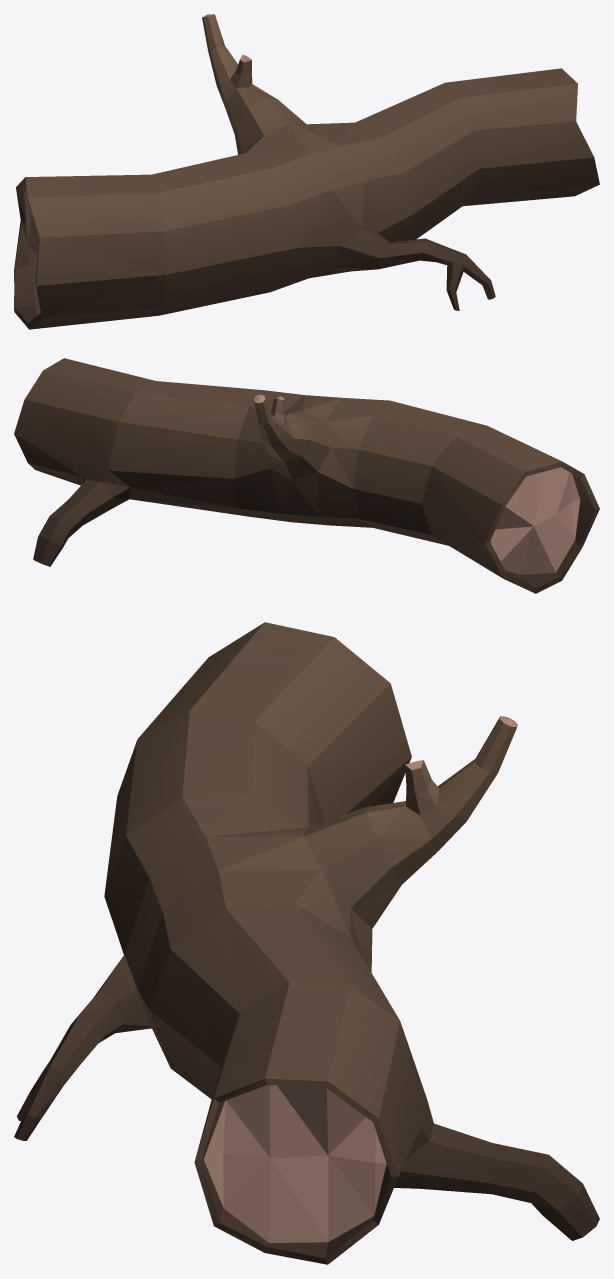
File: Baumstamm_mid.fbx
The picture shows the model from 3 angles, top to bottom: view 1: azimuth 30°, elevation 25°; view 2: azimuth 150°, elevation 25°; view 3: azimuth 270°, elevation 25°; orthographic projection. The views are drawn at different scales.
Parts seen in each view (by area): view 1: Baumstamm_klein; view 2: Baumstamm_klein; view 3: Baumstamm_klein.
Part boxes in pixels (x1,y1,x2,y2): Baumstamm_klein: (14,14,599,329); Baumstamm_klein: (14,358,599,593); Baumstamm_klein: (14,622,599,1264).
Bounding box in the file's own units: 343 × 127 × 190.
